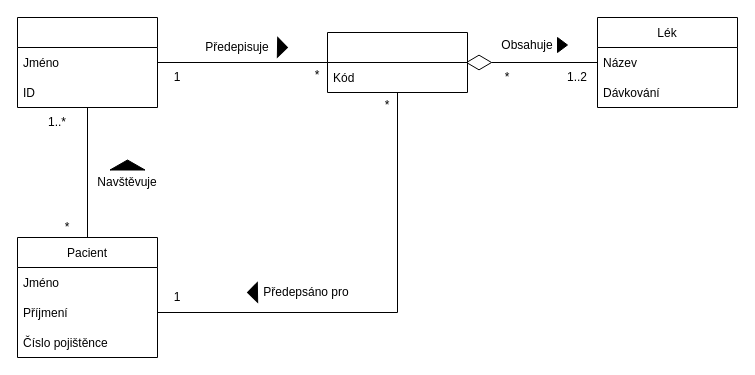
Image size: 755x375. Some labels were removed from this diagram. The shapes that lost their labels are listed below. From the top down, each one's box as (x1, y1, x2, y2) in pixels, then its label:
(16, 16, 158, 108): Lékař
(326, 32, 468, 92): Předpis
